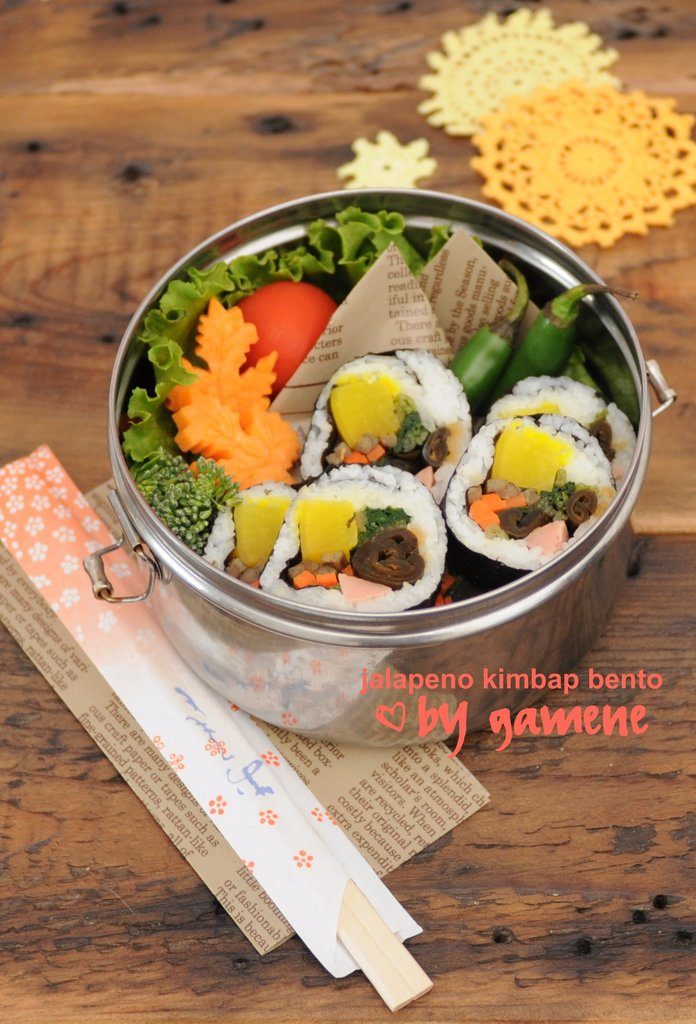sushi: (204, 348, 633, 605), (453, 399, 622, 563)
